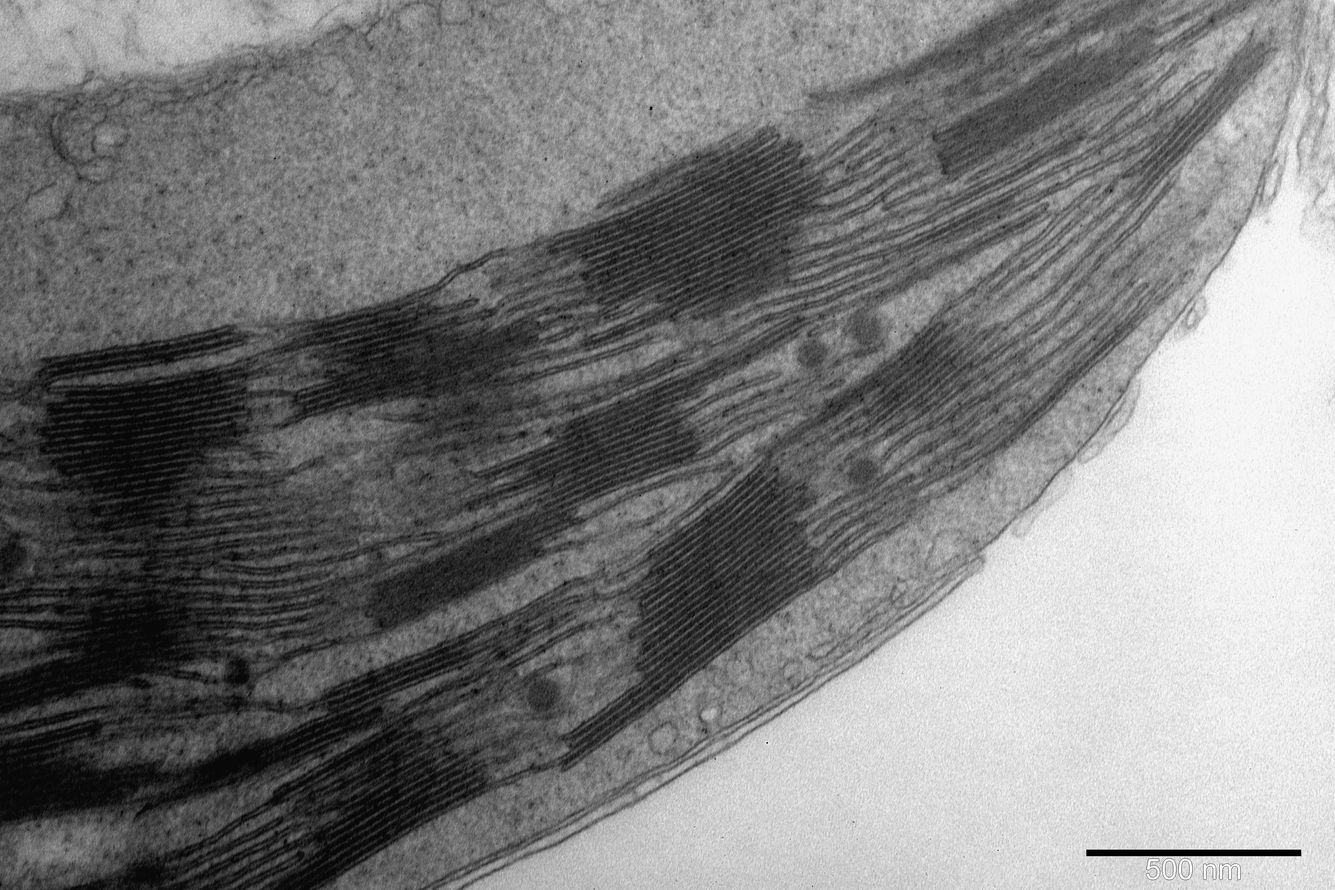granum: (361, 314, 805, 632), (560, 458, 838, 763), (532, 109, 834, 326), (189, 623, 525, 800), (253, 711, 494, 890), (931, 19, 1164, 186), (44, 354, 251, 533), (290, 285, 540, 423), (0, 587, 219, 718), (1129, 37, 1278, 190), (0, 716, 162, 830), (850, 316, 1001, 433), (38, 321, 247, 388), (925, 0, 1072, 77), (1072, 0, 1172, 33)
